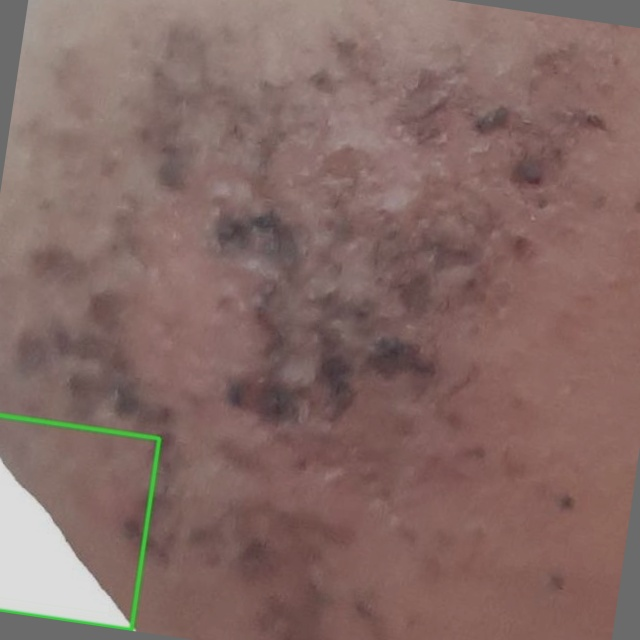Contact Dermatitis: (0, 415, 159, 629)
